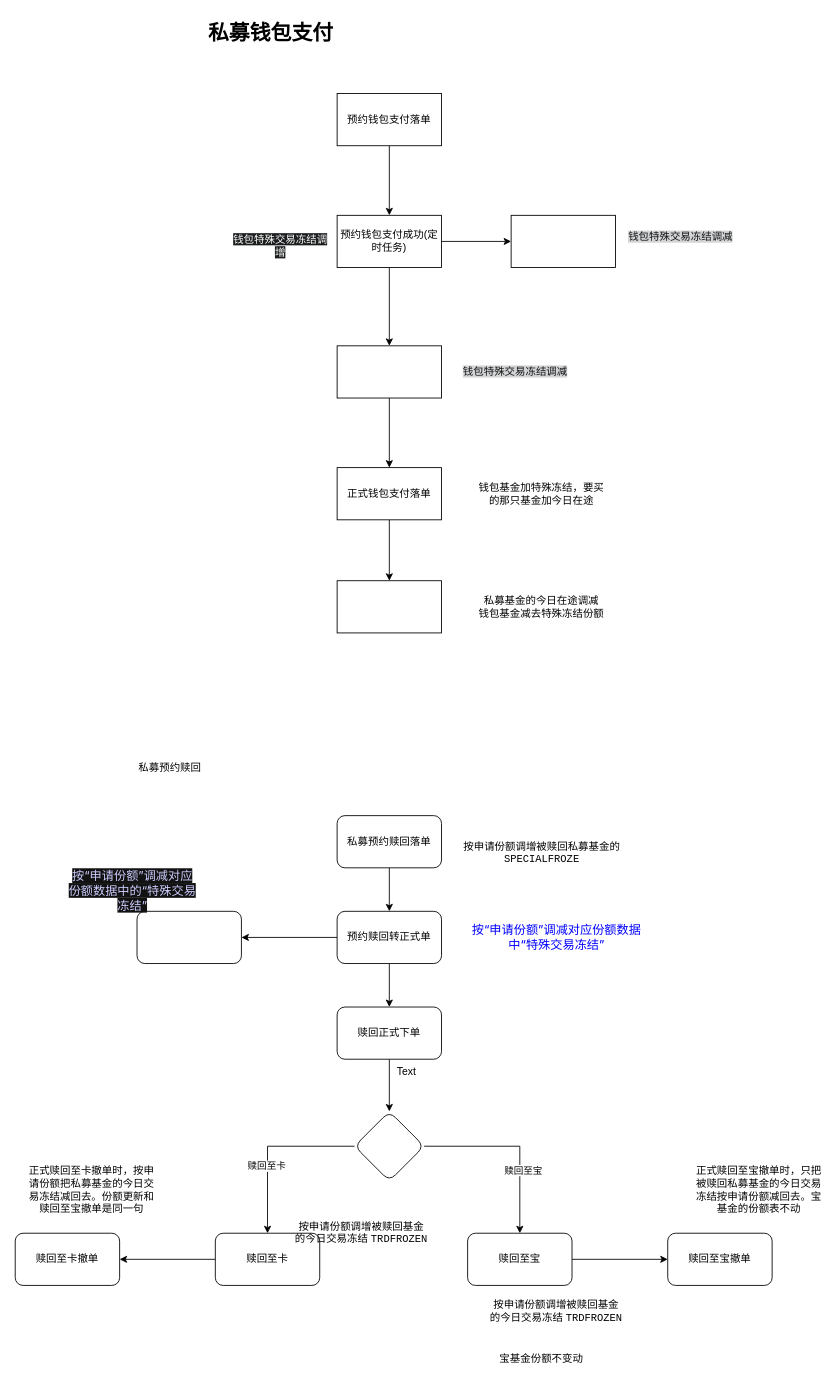
This 840x1387 diagram has some shape labels left out. Here are the shapes that lost their labels. From the top down, the centre of each, then its label:
the point at 563,241: 预约钱包支付撤单
the point at 389,371: 预约钱包支付正式落单
the point at 389,606: 正式钱包支付撤单
the point at 188,937: 预约赎回撤单
the point at 389,1146: 赎回方式
